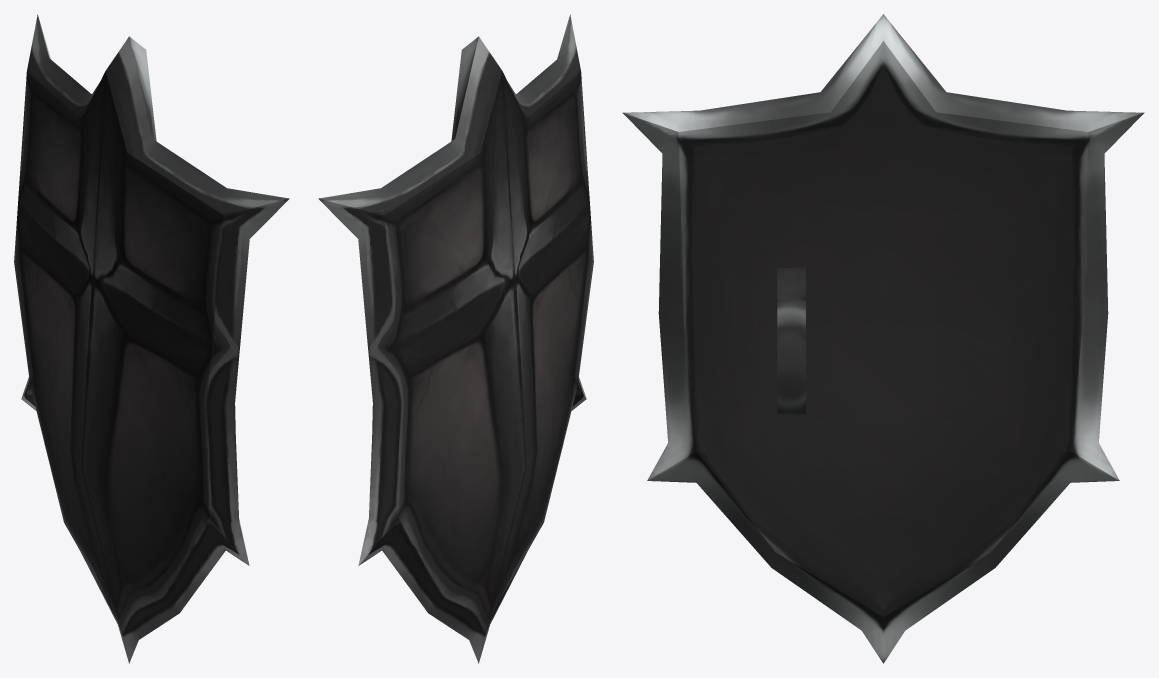
The model's file is Shield01_mesh.FBX.
3 renders of one model, left to right at view 1: azimuth 30°, elevation 25°; view 2: azimuth 150°, elevation 25°; view 3: azimuth 270°, elevation 25°, orthographic. The views are drawn at different scales.
Visible parts, largest first — view 1: Shield01_mesh; view 2: Shield01_mesh; view 3: Shield01_mesh.
Part boxes in pixels (x1,y1,x2,y2): Shield01_mesh: (14,14,289,663); Shield01_mesh: (318,14,593,663); Shield01_mesh: (622,14,1144,663).
Size of the model in its own units: 7.76 by 45.56 by 33.18.
